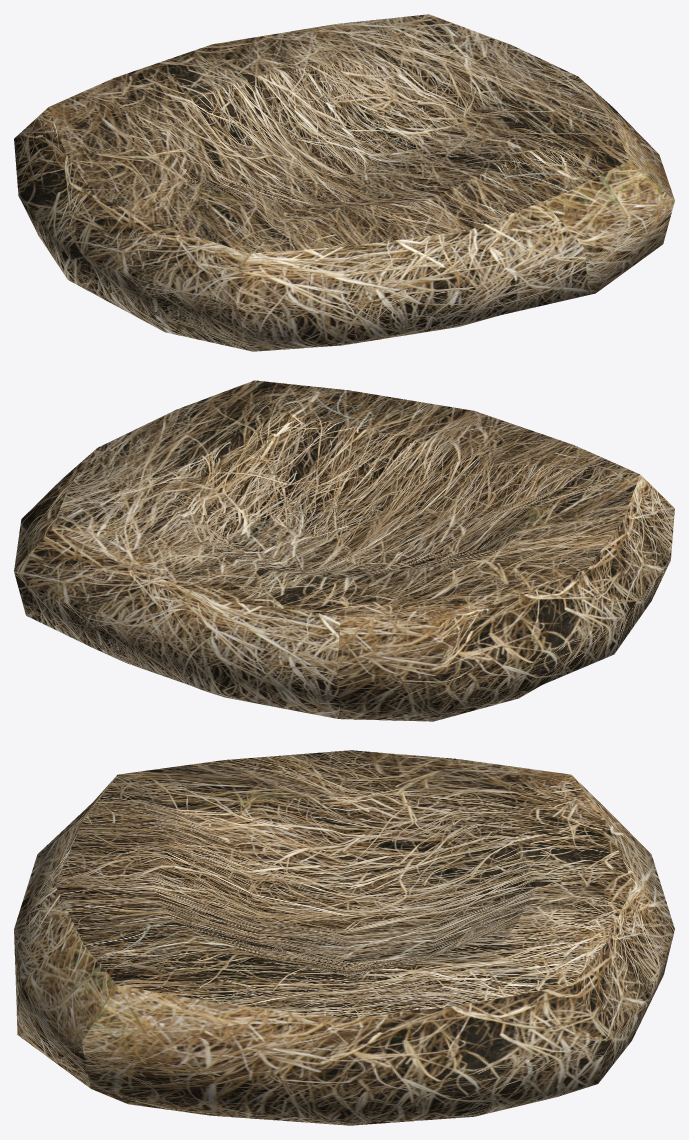
File: GPA3_Nest 2.fbx
3 renders of one model, top to bottom at view 1: azimuth 30°, elevation 25°; view 2: azimuth 150°, elevation 25°; view 3: azimuth 270°, elevation 25°, orthographic. The views are drawn at different scales.
Parts seen in each view (by area): view 1: pCube1; view 2: pCube1; view 3: pCube1.
Part boxes in pixels (<box>): pCube1: <box>14,14,674,351</box>; pCube1: <box>14,380,674,721</box>; pCube1: <box>14,750,674,1125</box>.
Bounding box in the file's own units: 8.41 × 1.62 × 7.66.
